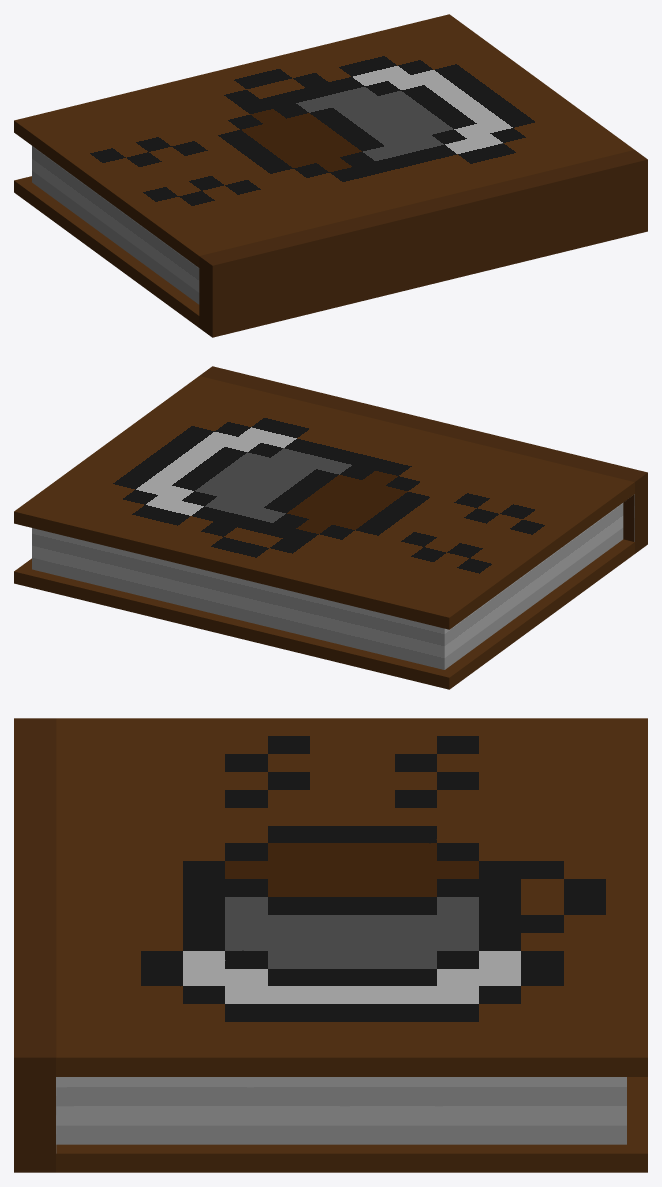
Rendered from Book.fbx.
3 views of the same model, one above another, from view 1: azimuth 30°, elevation 25°; view 2: azimuth 150°, elevation 25°; view 3: azimuth 270°, elevation 25° (orthographic). The views are drawn at different scales.
Parts seen in each view (by area): view 1: Polygon; view 2: Polygon; view 3: Polygon.
Part boxes in pixels (left/top/right/bottom): Polygon: left=14, top=14, right=647, bottom=337; Polygon: left=14, top=366, right=647, bottom=689; Polygon: left=14, top=718, right=647, bottom=1172.
Bounding box in the file's own units: 3.8 × 0.6 × 3.
1 material, 1 textured.
